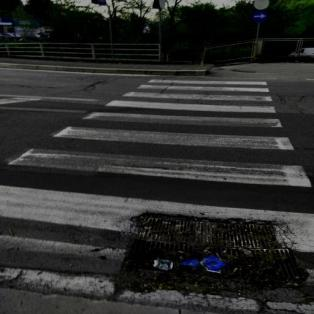Paso de Cebra: (33, 110, 306, 152), (136, 78, 274, 94)
